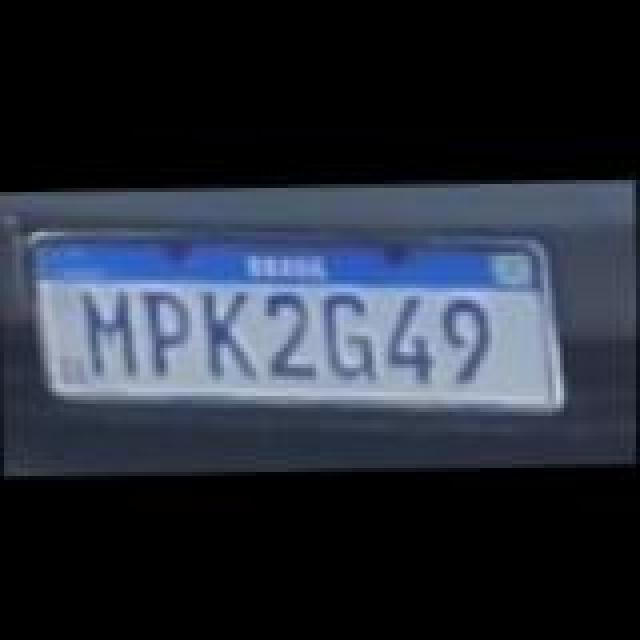2: (258, 282, 322, 374)
4: (376, 288, 436, 376)
9: (440, 288, 500, 376)
G: (316, 284, 384, 376)
K: (196, 282, 264, 378)
M: (74, 284, 146, 376)
P: (130, 282, 202, 374)
